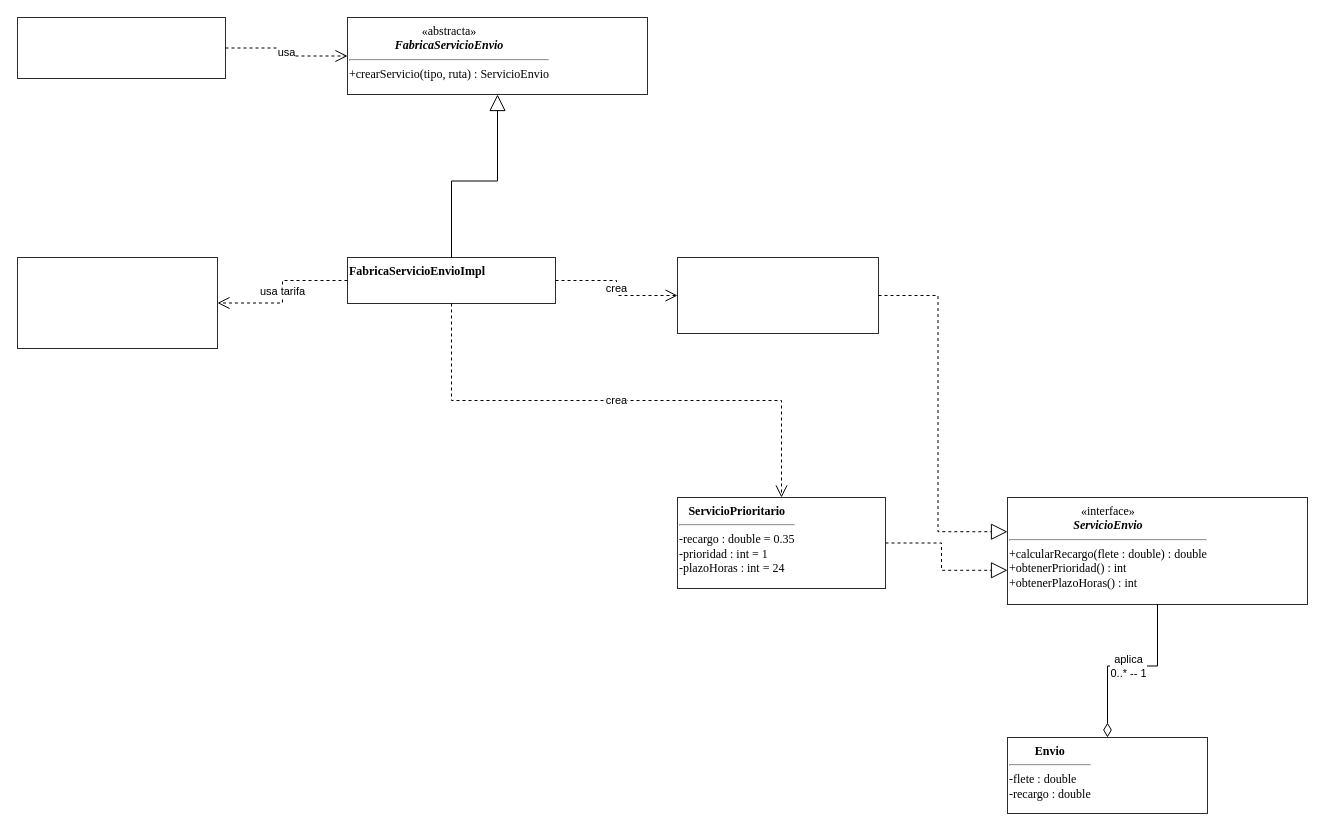
Image size: 1325x831. Some labels were removed from this diagram. Each missing label, with the centre of its shape:
"AuxiliarEncomiendas +registrarEnvio() : void" belongs at pixel 121 47.
"Ruta -origen : string -destino : string -tarifaKm : double" belongs at pixel 117 302.
"ServicioEstandar -recargo : double = 0.0 -prioridad : int = 2" belongs at pixel 777 295.
